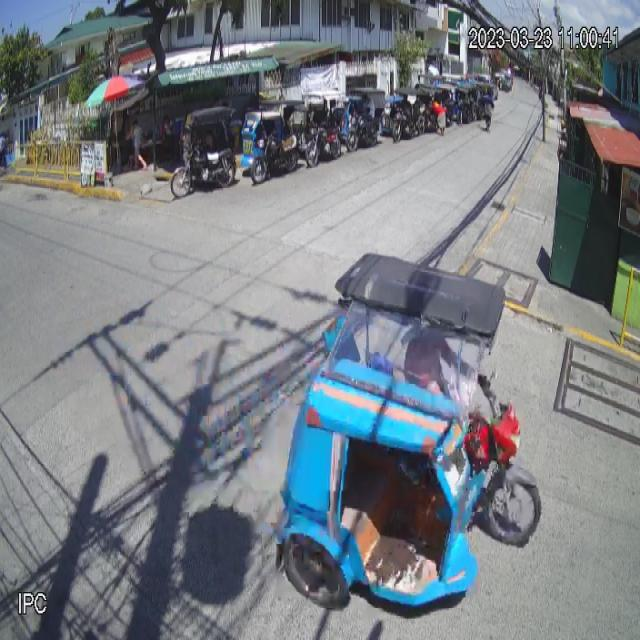Tricycle: (278, 252, 542, 610)
